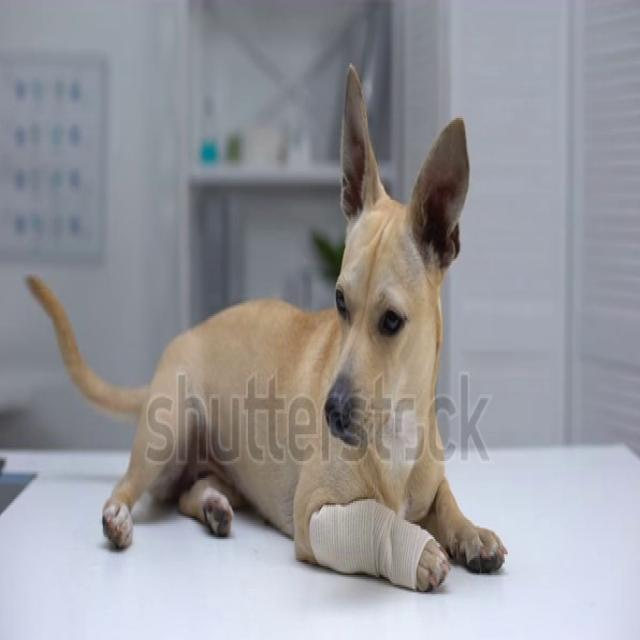injured-animals: (24, 59, 510, 598)
